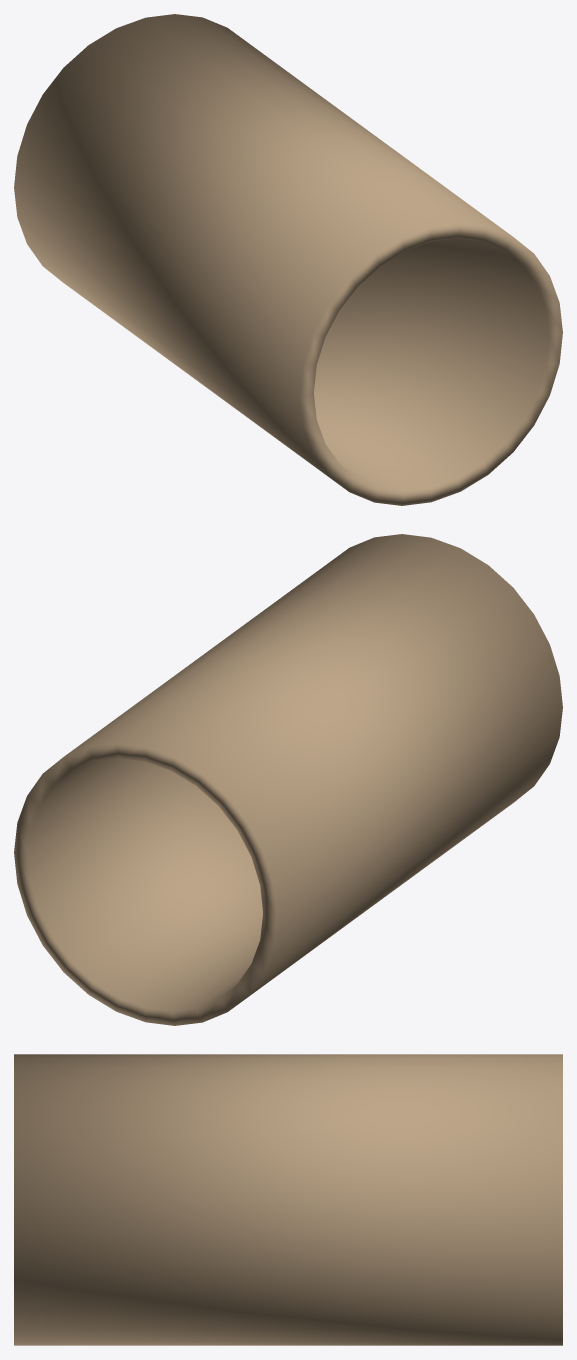
File: prop_tunnel_straight.glb
The picture shows the model from 3 angles, top to bottom: view 1: azimuth 30°, elevation 25°; view 2: azimuth 150°, elevation 25°; view 3: azimuth 270°, elevation 25°; orthographic projection. The views are drawn at different scales.
Parts seen in each view (by area): view 1: prop_tunnel_straight; view 2: prop_tunnel_straight; view 3: prop_tunnel_straight.
Part boxes in pixels (x1=…): prop_tunnel_straight: x1=14, y1=14, x2=562, y2=505; prop_tunnel_straight: x1=14, y1=534, x2=562, y2=1025; prop_tunnel_straight: x1=14, y1=1054, x2=562, y2=1345.
Size of the model in its own units: 0.085 by 0.085 by 0.16.
